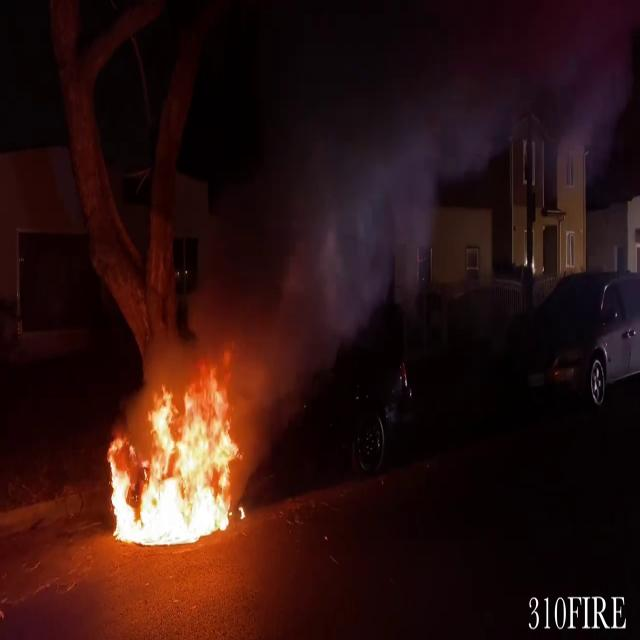Fire: (101, 367, 248, 549)
Smoke: (185, 32, 437, 360)
